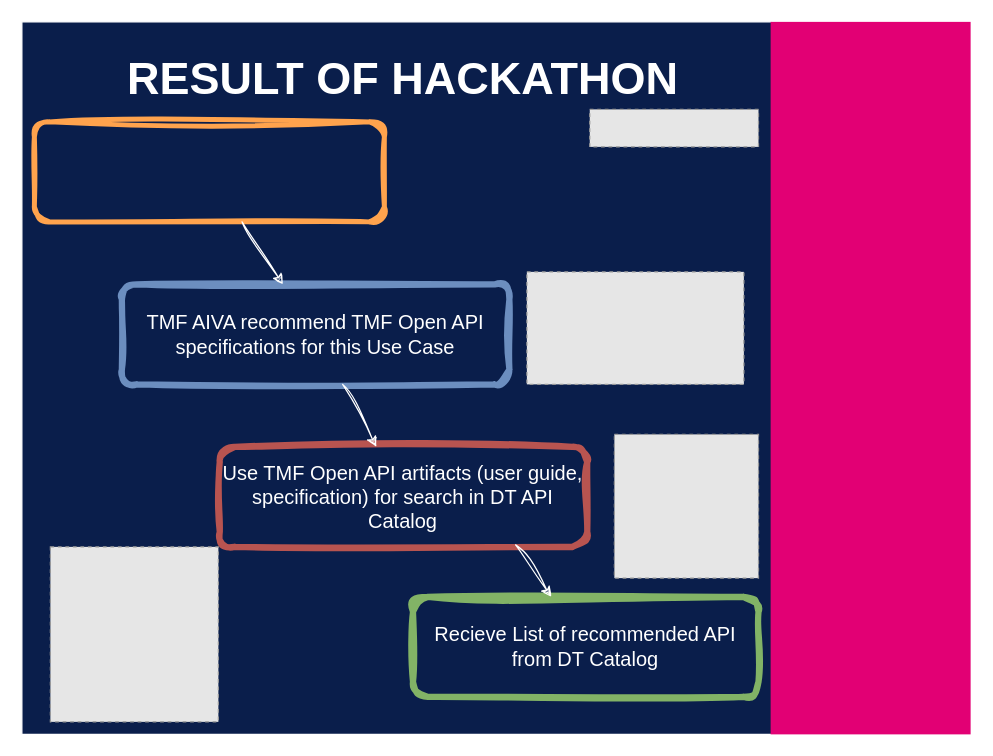
The diagram is 993 pixels wide and 756 high, and some of its shapes have lost their labels. Grey dashed boxes stand in for pictures. The shapes that lost their labels are listed below. From the top down, each one's centre as x and y in pixels, then its label:
At point (208, 171): "Use native language to describe his use case".
At point (870, 377): "LEX Session TMF AIVA".
